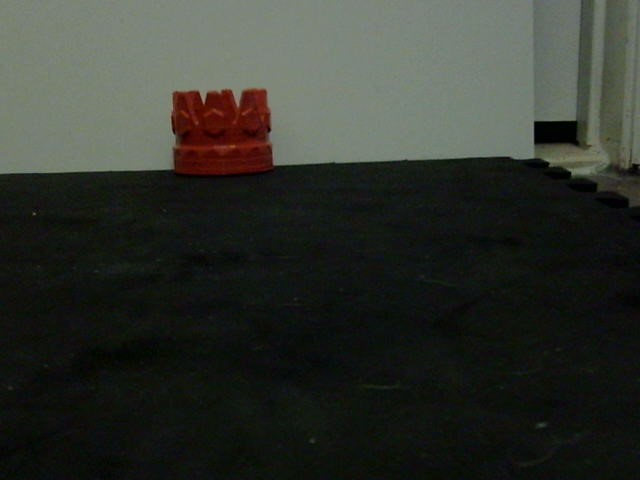crown: (168, 85, 275, 177)
